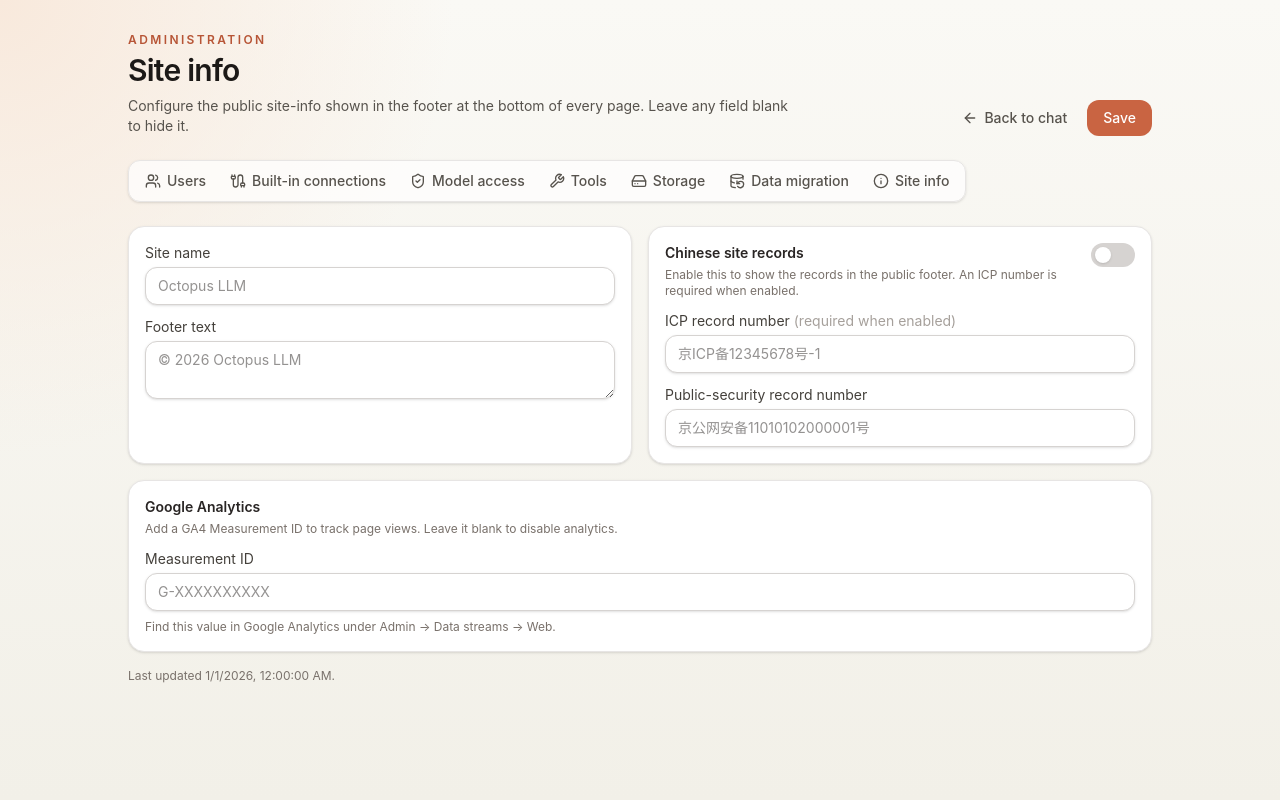
Scenario: SiteSettingsPage › rejects an invalid Google Analytics 4 Measurement ID before saving
Type "UA-12345" into the field labelled "Measurement ID" at (640, 592), box 145,573 -> 1135,611
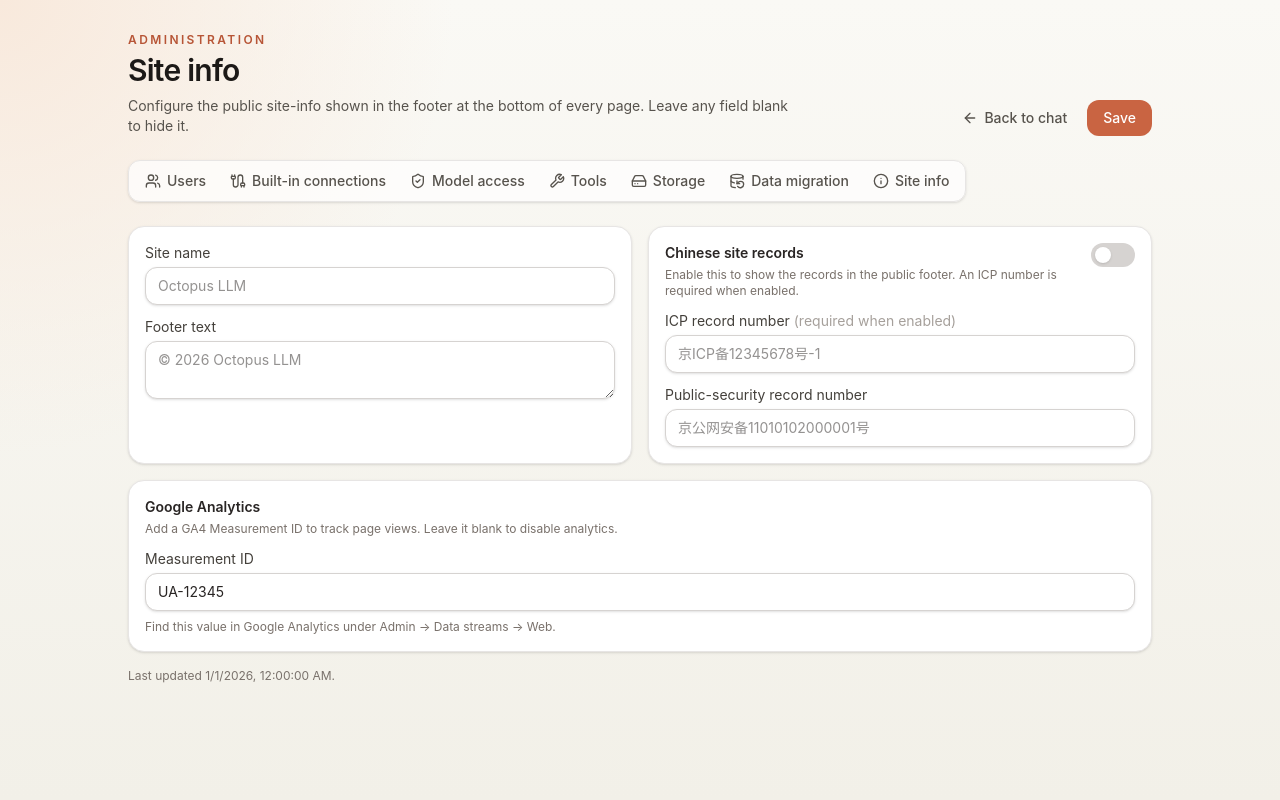
Click the button "Save" at (1120, 118), box 1087,100 -> 1152,136
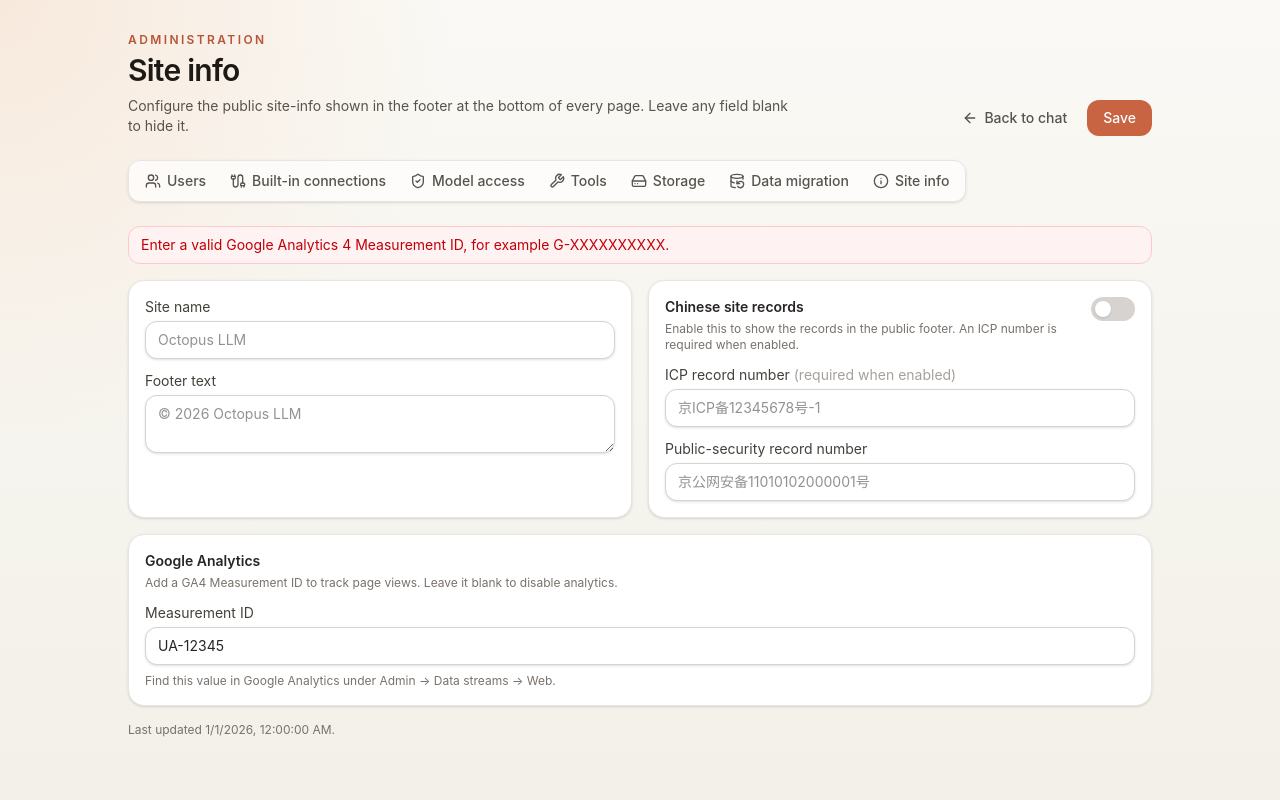
Result: the text "valid Google Analytics 4 Measurement ID" is shown at 141,236 -> 669,253
